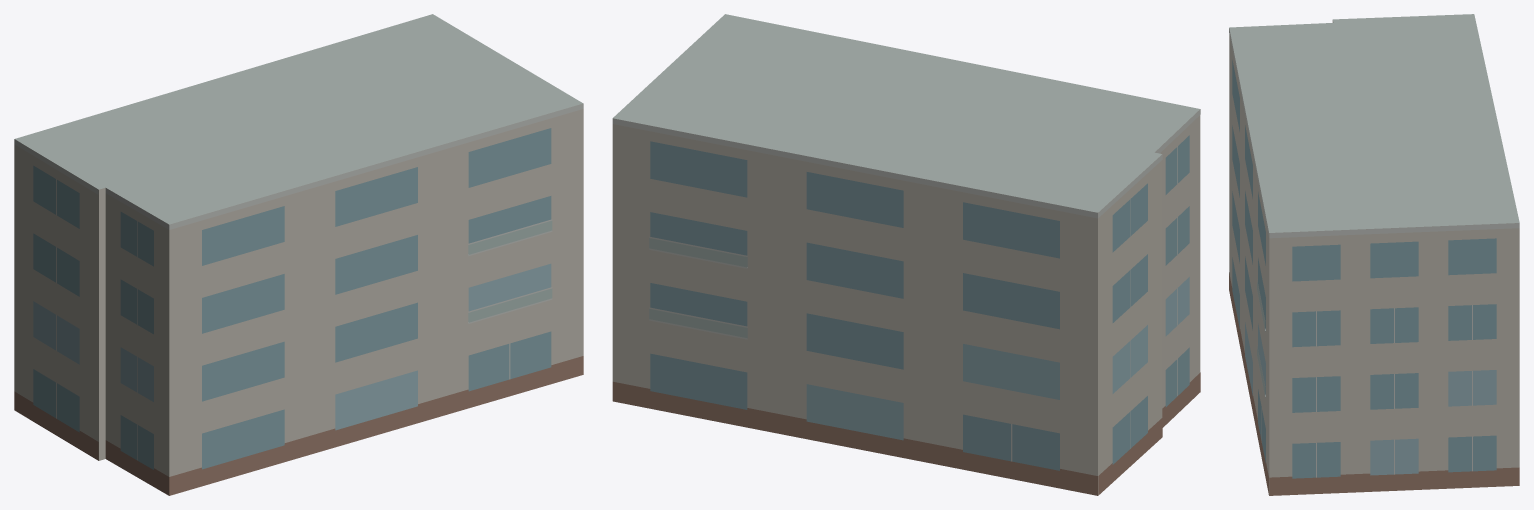
File: survey-upis-32657574.glb
3 renders of one model, left to right at view 1: azimuth 30°, elevation 25°; view 2: azimuth 150°, elevation 25°; view 3: azimuth 270°, elevation 25°, orthographic. The views are drawn at different scales.
Parts seen in each view (by area): view 1: survey-upis-32657574.tmp; view 2: survey-upis-32657574.tmp; view 3: survey-upis-32657574.tmp.
Boxes of the visible parts, bbox=[...] form: survey-upis-32657574.tmp: bbox=[14, 14, 583, 495]; survey-upis-32657574.tmp: bbox=[612, 14, 1200, 495]; survey-upis-32657574.tmp: bbox=[1229, 14, 1519, 495].
Size of the model in its own units: 21.81 by 12.2 by 12.23.
